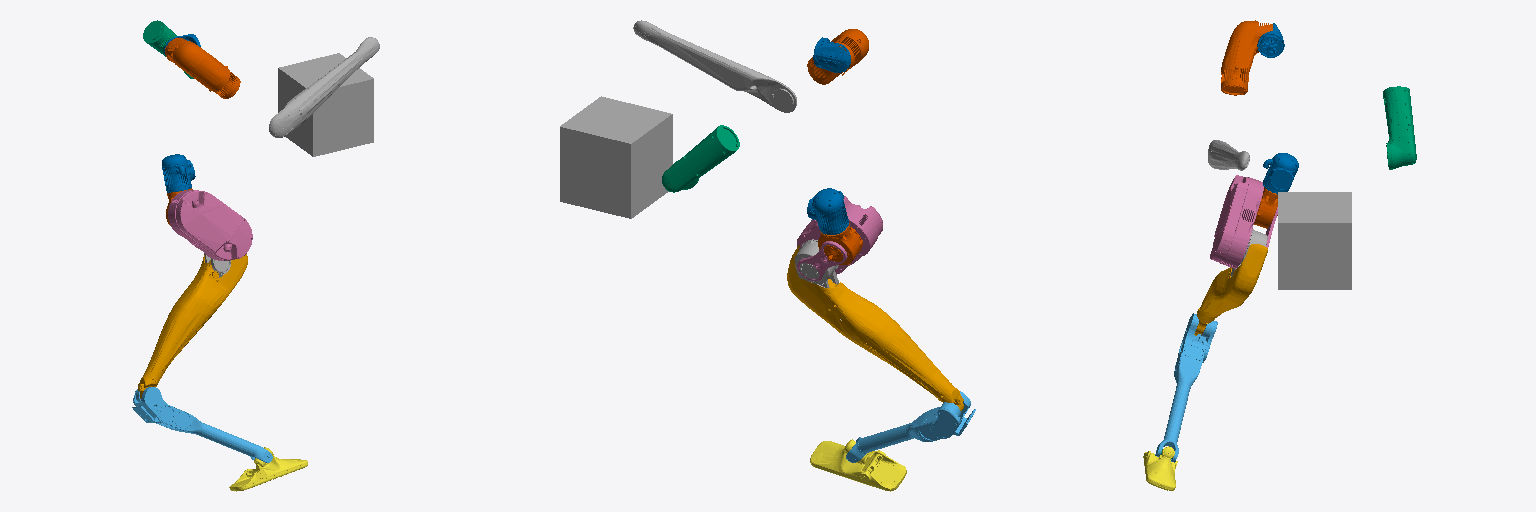
--- What the picture shows (computed from the rendered views, not written in the file) ---
The picture shows the robot from 3 angles, left to right: view 1: azimuth 30°, elevation 25°; view 2: azimuth 150°, elevation 25°; view 3: azimuth 270°, elevation 25°; orthographic projection.
Robot: digit — 32 links, 31 joints (3 revolute, 24 continuous, 3 prismatic, 1 fixed); root link world; default pose: every joint at zero.
Visible links, largest first — view 1: load, right_shin, right_hip_pitch, right_elbow, right_tarsus, right_shoulder_pitch, right_toe_roll, right_hip_roll, left_shoulder_yaw; view 2: load, right_shin, right_elbow, right_tarsus, right_toe_roll, left_shoulder_yaw, right_hip_pitch, right_hip_roll, right_shoulder_pitch, right_shoulder_roll, right_hip_yaw, right_knee; view 3: load, right_hip_pitch, right_tarsus, right_shin, right_shoulder_pitch, left_shoulder_yaw, right_toe_roll, right_hip_roll, right_elbow, right_shoulder_roll, right_hip_yaw.
Link boxes in pixels (left/top/right/bottom): load: left=278, top=53, right=373, bottom=156; right_shin: left=138, top=254, right=247, bottom=398; right_hip_pitch: left=168, top=190, right=252, bottom=260; right_elbow: left=269, top=37, right=379, bottom=137; right_tarsus: left=132, top=387, right=272, bottom=462; right_shoulder_pitch: left=165, top=38, right=240, bottom=98; right_toe_roll: left=229, top=447, right=307, bottom=491; right_hip_roll: left=162, top=154, right=195, bottom=192; left_shoulder_yaw: left=143, top=20, right=193, bottom=78; load: left=560, top=96, right=672, bottom=218; right_shin: left=787, top=245, right=963, bottom=410; right_elbow: left=633, top=20, right=796, bottom=112; right_tarsus: left=846, top=391, right=975, bottom=462; right_toe_roll: left=810, top=439, right=906, bottom=491; left_shoulder_yaw: left=662, top=125, right=739, bottom=192; right_hip_pitch: left=797, top=196, right=882, bottom=280; right_hip_roll: left=807, top=188, right=848, bottom=234; right_shoulder_pitch: left=807, top=29, right=868, bottom=84; right_shoulder_roll: left=813, top=37, right=850, bottom=72; right_hip_yaw: left=818, top=223, right=862, bottom=264; right_knee: left=794, top=239, right=841, bottom=320; load: left=1278, top=192, right=1351, bottom=289; right_hip_pitch: left=1210, top=175, right=1277, bottom=268; right_tarsus: left=1155, top=313, right=1217, bottom=462; right_shin: left=1194, top=244, right=1267, bottom=335; right_shoulder_pitch: left=1221, top=20, right=1272, bottom=95; left_shoulder_yaw: left=1383, top=86, right=1416, bottom=169; right_toe_roll: left=1143, top=446, right=1177, bottom=490; right_hip_roll: left=1263, top=153, right=1298, bottom=194; right_elbow: left=1208, top=140, right=1249, bottom=170; right_shoulder_roll: left=1257, top=23, right=1284, bottom=57; right_hip_yaw: left=1254, top=187, right=1277, bottom=228.
Bounding box of the posed robot: 0.9093 × 0.7419 × 1.32 m (x, y, z).
Meshes: 25 distinct files referenced, 12 mesh visuals loaded (12 binary STL); not drawn: 13 (reference not matched to a file when rendering).

The robot description file, URDF, robot "digit":
<?xml version="1.0" encoding="utf-8"?>
<robot name="digit">
  <link name="world">
    <inertial>
      <origin rpy="0 0 0" xyz="0 0 0"/>
      <mass value="0"/>
      <inertia ixx="0" ixy="0" ixz="0" iyy="0" iyz="0" izz="0"/>
    </inertial>
  </link>

  <link name="TransX">
    <inertial>
      <origin rpy="0 0 0" xyz="0 0 0"/>
      <mass value="0"/>
      <inertia ixx="0" ixy="0" ixz="0" iyy="0" iyz="0" izz="0"/>
    </inertial>
  </link>
  <link name="TransY">
    <inertial>
      <origin rpy="0 0 0" xyz="0 0 0"/>
      <mass value="0"/>
      <inertia ixx="0" ixy="0" ixz="0" iyy="0" iyz="0" izz="0"/>
    </inertial>
  </link>
  <link name="TransZ">
    <inertial>
      <origin rpy="0 0 0" xyz="0 0 0"/>
      <mass value="0"/>
      <inertia ixx="0" ixy="0" ixz="0" iyy="0" iyz="0" izz="0"/>
    </inertial>
  </link>
  <link name="RotX">
    <inertial>
      <origin rpy="0 0 0" xyz="0 0 0"/>
      <mass value="0"/>
      <inertia ixx="0" ixy="0" ixz="0" iyy="0" iyz="0" izz="0"/>
    </inertial>
  </link>
  <link name="RotY">
    <inertial>
      <origin rpy="0 0 0" xyz="0 0 0"/>
      <mass value="0"/>
      <inertia ixx="0" ixy="0" ixz="0" iyy="0" iyz="0" izz="0"/>
    </inertial>
  </link>





  <link name="torso">
    <inertial>
      <origin rpy="0 0 0" xyz="0.001637 0.0002 0.259547"/>
      <mass value="15.028392"/>
      <inertia ixx="0.376284" ixy="-8.8e-05" ixz="0.008378" iyy="0.342655" iyz="6.7e-05" izz="0.100648"/>
    </inertial>
    <visual>
      <origin rpy="0 0 0" xyz="0 0 0"/>
      <geometry>
        <mesh filename="torso.stl"/>
      </geometry>
    </visual>
    <collision>
      <origin rpy="0 0 0" xyz="0 0 0"/>
      <geometry>
        <mesh filename="torso.stl"/>
      </geometry>
    </collision>
  </link>


  <link name="load">
    <inertial>
      <origin rpy="0 0 0" xyz="0.2 0 -0.2"/>
      <mass value="10"/>
      <inertia ixx="0.376284" ixy="-8.8e-05" ixz="0.008378" iyy="0.342655" iyz="6.7e-05" izz="0.100648"/>
    </inertial>
    <visual>
      <origin rpy="0 0 0" xyz="0 0 0"/>
      <geometry>
        <box size="0.2 0.2 0.2" />
      </geometry>
    </visual>
    <collision>
      <origin rpy="0 0 0" xyz="0 0 0"/>
      <geometry>
        <box size="0.2 0.2 0.2" />
      </geometry>
    </collision>
  </link>


  <link name="left_hip_roll">
    <inertial>
      <origin rpy="0 0 0" xyz="-0.001967 0.000244 0.031435"/>
      <mass value="0.915088"/>
      <inertia ixx="0.001017" ixy="-3e-06" ixz="1.3e-05" iyy="0.001148" iyz="-4e-06" izz="0.000766"/>
    </inertial>
    <visual>
      <origin rpy="0 0 0" xyz="0 0 0"/>
      <geometry>
        <mesh filename="hip-yaw-housing.stl"/>
      </geometry>
    </visual>
    <collision>
      <origin rpy="0 0 0" xyz="0 0 0"/>
      <geometry>
        <mesh filename="hip-yaw-housing.stl"/>
      </geometry>
    </collision>
  </link>
  <link name="left_hip_yaw">
    <inertial>
      <origin rpy="0 0 0" xyz="1e-05 -0.001945 0.042033"/>
      <mass value="0.818753"/>
      <inertia ixx="0.001627" ixy="-1e-06" ixz="2e-06" iyy="0.001929" iyz="5.3e-05" izz="0.00077"/>
    </inertial>
    <visual>
      <origin rpy="0 0 0" xyz="0 0 0"/>
      <geometry>
        <mesh filename="hip-pitch-housing.stl"/>
      </geometry>
    </visual>
    <collision>
      <origin rpy="0 0 0" xyz="0 0 0"/>
      <geometry>
        <mesh filename="hip-pitch-housing.stl"/>
      </geometry>
    </collision>
  </link>
  <link name="left_hip_pitch">
    <inertial>
      <origin rpy="0 0 0" xyz="0.060537 0.000521 -0.038857"/>
      <mass value="6.244279"/>
      <inertia ixx="0.011533" ixy="-0.000171" ixz="0.000148" iyy="0.033345" iyz="0.000178" izz="0.033958"/>
    </inertial>
    <visual>
      <origin rpy="0 0 0" xyz="0 0 0"/>
      <geometry>
        <mesh filename="hip-pitch.stl"/>
      </geometry>
    </visual>
    <collision>
      <origin rpy="0 0 0" xyz="0 0 0"/>
      <geometry>
        <mesh filename="hip-pitch.stl"/>
      </geometry>
    </collision>
  </link>
  <link name="left_knee">
    <inertial>
      <origin rpy="0 0 0" xyz="0.045641 0.042154 0.001657"/>
      <mass value="1.227077"/>
      <inertia ixx="0.002643" ixy="-0.001832" ixz="6.6e-05" iyy="0.005098" iyz="4.5e-05" izz="0.007019"/>
    </inertial>
    <visual>
      <origin rpy="0 0 0" xyz="0 0 0"/>
      <geometry>
        <mesh filename="knee.stl"/>
      </geometry>
    </visual>
    <collision>
      <origin rpy="0 0 0" xyz="0 0 0"/>
      <geometry>
        <mesh filename="knee.stl"/>
      </geometry>
    </collision>
  </link>
  <link name="left_shin">
    <inertial>
      <origin rpy="0 0 0" xyz="0.174265 0.010265 0.00107"/>
      <mass value="0.895793"/>
      <inertia ixx="0.001128" ixy="0.001098" ixz="0.000196" iyy="0.022492" iyz="-3e-06" izz="0.022793"/>
    </inertial>
    <visual>
      <origin rpy="0 0 0" xyz="0 0 0"/>
      <geometry>
        <mesh filename="shin.stl"/>
      </geometry>
    </visual>
    <collision>
      <origin rpy="0 0 0" xyz="0 0 0"/>
      <geometry>
        <mesh filename="shin.stl"/>
      </geometry>
    </collision>
  </link>
  <link name="left_tarsus">
    <inertial>
      <origin rpy="0 0 0" xyz="0.000932 -0.029183 0.000678"/>
      <mass value="1.322865"/>
      <inertia ixx="0.000932" ixy="0.00061" ixz="0.000102" iyy="0.016409" iyz="9e-06" izz="0.016501"/>
    </inertial>
    <visual>
      <origin rpy="0 0 0" xyz="0 0 0"/>
      <geometry>
        <mesh filename="tarsus.stl"/>
      </geometry>
    </visual>
    <collision>
      <origin rpy="0 0 0" xyz="0 0 0"/>
      <geometry>
        <mesh filename="tarsus.stl"/>
      </geometry>
    </collision>
  </link>
  <link name="left_toe_pitch">
    <inertial>
      <origin rpy="0 0 0" xyz="-0.000141 2e-06 3e-06"/>
      <mass value="0.043881"/>
      <inertia ixx="5e-06" ixy="0" ixz="0" iyy="8e-06" iyz="0" izz="5e-06"/>
    </inertial>
    <visual>
      <origin rpy="0 0 0" xyz="0 0 0"/>
      <geometry>
        <mesh filename="toe-pitch.stl"/>
      </geometry>
    </visual>
    <collision>
      <origin rpy="0 0 0" xyz="0 0 0"/>
      <geometry>
        <mesh filename="toe-pitch.stl"/>
      </geometry>
    </collision>
  </link>
  <link name="left_toe_roll">
    <inertial>
      <origin rpy="0 0 0" xyz="9e-06 -0.028084 -0.023204"/>
      <mass value="0.531283"/>
      <inertia ixx="0.00187" ixy="0" ixz="0" iyy="0.001616" iyz="0.000566" izz="0.000843"/>
    </inertial>
    <visual>
      <origin rpy="0 0 0" xyz="0 0 0"/>
      <geometry>
        <mesh filename="toe-roll.stl"/>
      </geometry>
    </visual>
    <collision>
      <origin rpy="0 0 0" xyz="0 0 0"/>
      <geometry>
        <mesh filename="toe-roll.stl"/>
      </geometry>
    </collision>
  </link>
  <link name="left_shoulder_roll">
    <inertial>
      <origin rpy="0 0 0" xyz="9e-06 -0.003158 0.023405"/>
      <mass value="0.535396"/>
      <inertia ixx="0.000704" ixy="1.4e-05" ixz="1.2e-05" iyy="0.00075" iyz="3.5e-05" izz="0.000298"/>
    </inertial>
    <visual>
      <origin rpy="0 0 0" xyz="0 0 0"/>
      <geometry>
        <mesh filename="arm-L1.stl"/>
      </geometry>
    </visual>
    <collision>
      <origin rpy="0 0 0" xyz="0 0 0"/>
      <geometry>
        <mesh filename="arm-L1.stl"/>
      </geometry>
    </collision>
  </link>
  <link name="left_shoulder_pitch">
    <inertial>
      <origin rpy="0 0 0" xyz="-4.2e-05 -0.061882 -0.073788"/>
      <mass value="1.440357"/>
      <inertia ixx="0.006761" ixy="-6e-06" ixz="-3e-06" iyy="0.002087" iyz="-0.002046" izz="0.005778"/>
    </inertial>
    <visual>
      <origin rpy="0 0 0" xyz="0 0 0"/>
      <geometry>
        <mesh filename="arm-L2.stl"/>
      </geometry>
    </visual>
    <collision>
      <origin rpy="0 0 0" xyz="0 0 0"/>
      <geometry>
        <mesh filename="arm-L2.stl"/>
      </geometry>
    </collision>
  </link>
  <link name="left_shoulder_yaw">
    <inertial>
      <origin rpy="0 0 0" xyz="-3e-05 -0.001937 0.11407"/>
      <mass value="1.065387"/>
      <inertia ixx="0.006967" ixy="1e-06" ixz="-1e-06" iyy="0.007003" iyz="1.5e-05" izz="0.000673"/>
    </inertial>
    <visual>
      <origin rpy="0 0 0" xyz="0 0 0"/>
      <geometry>
        <mesh filename="arm-L3.stl"/>
      </geometry>
    </visual>
    <collision>
      <origin rpy="0 0 0" xyz="0 0 0"/>
      <geometry>
        <mesh filename="arm-L3.stl"/>
      </geometry>
    </collision>
  </link>
  <link name="left_elbow">
    <inertial>
      <origin rpy="0 0 0" xyz="0.107996 -0.000521 -0.017765"/>
      <mass value="0.550582"/>
      <inertia ixx="0.000476" ixy="-2.9e-05" ixz="0.001403" iyy="0.009564" iyz="9e-06" izz="0.009437"/>
    </inertial>
    <visual>
      <origin rpy="0 0 0" xyz="0 0 0"/>
      <geometry>
        <mesh filename="package://urdf/arm-L4.obj"/>
      </geometry>
    </visual>
    <collision>
      <origin rpy="0 0 0" xyz="0 0 0"/>
      <geometry>
        <mesh filename="package://urdf/arm-L4.obj"/>
      </geometry>
    </collision>
  </link>








  <link name="right_hip_roll">
    <inertial>
      <origin rpy="0 0 0" xyz="-0.001967 -0.000244 0.031435"/>
      <mass value="0.915088"/>
      <inertia ixx="0.001017" ixy="3e-06" ixz="1.3e-05" iyy="0.001148" iyz="4e-06" izz="0.000766"/>
    </inertial>
    <visual>
      <origin rpy="0 0 0" xyz="0 0 0"/>
      <geometry>
        <mesh filename="right_part/right_hip-yaw-housing.stl" scale="1 1 1"/>
      </geometry>
    </visual>
    <collision>
      <origin rpy="0 0 0" xyz="0 0 0"/>
      <geometry>
        <mesh filename="right_part/right_hip-yaw-housing.stl" scale="1 1 1"/>
      </geometry>
    </collision>
  </link>
  <link name="right_hip_yaw">
    <inertial>
      <origin rpy="0 0 0" xyz="1e-05 0.001945 0.042033"/>
      <mass value="0.818753"/>
      <inertia ixx="0.001627" ixy="1e-06" ixz="2e-06" iyy="0.001929" iyz="-5.3e-05" izz="0.00077"/>
    </inertial>
    <visual>
      <origin rpy="0 0 0" xyz="0 0 0"/>
      <geometry>
        <mesh filename="right_part/right_hip-pitch-housing.stl" scale="1 1 1"/>
      </geometry>
    </visual>
    <collision>
      <origin rpy="0 0 0" xyz="0 0 0"/>
      <geometry>
        <mesh filename="right_part/right_hip-pitch-housing.stl" scale="1 1 1"/>
      </geometry>
    </collision>
  </link>
  <link name="right_hip_pitch">
    <inertial>
      <origin rpy="0 0 0" xyz="0.060537 -0.000521 -0.038857"/>
      <mass value="6.244279"/>
      <inertia ixx="0.011533" ixy="0.000171" ixz="0.000148" iyy="0.033345" iyz="-0.000178" izz="0.033958"/>
    </inertial>
    <visual>
      <origin rpy="0 0 0" xyz="0 0 0"/>
      <geometry>
        <mesh filename="right_part/right_hip-pitch.stl" scale="1 1 1"/>
      </geometry>
    </visual>
    <collision>
      <origin rpy="0 0 0" xyz="0 0 0"/>
      <geometry>
        <mesh filename="right_part/right_hip-pitch.stl" scale="1 1 1"/>
      </geometry>
    </collision>
  </link>
  <link name="right_knee">
    <inertial>
      <origin rpy="0 0 0" xyz="0.045641 -0.042154 0.001657"/>
      <mass value="1.227077"/>
      <inertia ixx="0.002643" ixy="0.001832" ixz="6.6e-05" iyy="0.005098" iyz="-4.5e-05" izz="0.007019"/>
    </inertial>
    <visual>
      <origin rpy="0 0 0" xyz="0 0 0"/>
      <geometry>
        <mesh filename="right_part/right_knee.stl" scale="1 1 1"/>
      </geometry>
    </visual>
    <collision>
      <origin rpy="0 0 0" xyz="0 0 0"/>
      <geometry>
        <mesh filename="right_part/right_knee.stl" scale="1 1 1"/>
      </geometry>
    </collision>
  </link>
  <link name="right_shin">
    <inertial>
      <origin rpy="0 0 0" xyz="0.174265 -0.010265 0.00107"/>
      <mass value="0.895793"/>
      <inertia ixx="0.001128" ixy="-0.001098" ixz="0.000196" iyy="0.022492" iyz="3e-06" izz="0.022793"/>
    </inertial>
    <visual>
      <origin rpy="0 0 0" xyz="0 0 0"/>
      <geometry>
        <mesh filename="right_part/right_shin.stl" scale="1 1 1"/>
      </geometry>
    </visual>
    <collision>
      <origin rpy="0 0 0" xyz="0 0 0"/>
      <geometry>
        <mesh filename="right_part/right_shin.stl" scale="1 1 1"/>
      </geometry>
    </collision>
  </link>
  <link name="right_tarsus">
    <inertial>
      <origin rpy="0 0 0" xyz="0.000932 0.029183 0.000678"/>
      <mass value="1.322865"/>
      <inertia ixx="0.000932" ixy="-0.00061" ixz="0.000102" iyy="0.016409" iyz="-9e-06" izz="0.016501"/>
    </inertial>
    <visual>
      <origin rpy="0 0 0" xyz="0 0 0"/>
      <geometry>
        <mesh filename="right_part/right_tarsus.stl" scale="1 1 1"/>
      </geometry>
    </visual>
    <collision>
      <origin rpy="0 0 0" xyz="0 0 0"/>
      <geometry>
        <mesh filename="right_part/right_tarsus.stl" scale="1 1 1"/>
      </geometry>
    </collision>
  </link>
  <link name="right_toe_pitch">
    <inertial>
      <origin rpy="0 0 0" xyz="-0.000141 -2e-06 3e-06"/>
      <mass value="0.043881"/>
      <inertia ixx="5e-06" ixy="0" ixz="0" iyy="8e-06" iyz="0" izz="5e-06"/>
    </inertial>
    <visual>
      <origin rpy="0 0 0" xyz="0 0 0"/>
      <geometry>
        <mesh filename="right_part/right_toe-pitch.stl" scale="1 1 1"/>
      </geometry>
    </visual>
    <collision>
      <origin rpy="0 0 0" xyz="0 0 0"/>
      <geometry>
        <mesh filename="right_part/right_toe-pitch.stl" scale="1 1 1"/>
      </geometry>
    </collision>
  </link>
  <link name="right_toe_roll">
    <inertial>
      <origin rpy="0 0 0" xyz="9e-06 0.028084 -0.023204"/>
      <mass value="0.531283"/>
      <inertia ixx="0.00187" ixy="0" ixz="0" iyy="0.001616" iyz="-0.000566" izz="0.000843"/>
    </inertial>
    <visual>
      <origin rpy="0 0 0" xyz="0 0 0"/>
      <geometry>
        <mesh filename="right_part/right_toe-roll.stl" scale="1 1 1"/>
      </geometry>
    </visual>
    <collision>
      <origin rpy="0 0 0" xyz="0 0 0"/>
      <geometry>
        <mesh filename="right_part/right_toe-roll.stl" scale="1 1 1"/>
      </geometry>
    </collision>
  </link>











  <link name="right_shoulder_roll">
    <inertial>
      <origin rpy="0 0 0" xyz="9e-06 0.003158 0.023405"/>
      <mass value="0.535396"/>
      <inertia ixx="0.000704" ixy="-1.4e-05" ixz="1.2e-05" iyy="0.00075" iyz="-3.5e-05" izz="0.000298"/>
    </inertial>
    <visual>
      <origin rpy="0 0 0" xyz="0 0 0"/>
      <geometry>
        <mesh filename="right_part/right_arm-L1.stl" scale="1 1 1"/>
      </geometry>
    </visual>
    <collision>
      <origin rpy="0 0 0" xyz="0 0 0"/>
      <geometry>
        <mesh filename="right_part/right_arm-L1.stl" scale="1 1 1"/>
      </geometry>
    </collision>
  </link>
  <link name="right_shoulder_pitch">
    <inertial>
      <origin rpy="0 0 0" xyz="-4.2e-05 0.061882 -0.073788"/>
      <mass value="1.440357"/>
      <inertia ixx="0.006761" ixy="6e-06" ixz="-3e-06" iyy="0.002087" iyz="0.002046" izz="0.005778"/>
    </inertial>
    <visual>
      <origin rpy="0 0 0" xyz="0 0 0"/>
      <geometry>
        <mesh filename="right_part/right_arm-L2.stl" scale="1 1 1"/>
      </geometry>
    </visual>
    <collision>
      <origin rpy="0 0 0" xyz="0 0 0"/>
      <geometry>
        <mesh filename="right_part/right_arm-L2.stl" scale="1 1 1"/>
      </geometry>
    </collision>
  </link>
  <link name="right_shoulder_yaw">
    <inertial>
      <origin rpy="0 0 0" xyz="-3e-05 0.001937 0.11407"/>
      <mass value="1.065387"/>
      <inertia ixx="0.006967" ixy="-1e-06" ixz="-1e-06" iyy="0.007003" iyz="-1.5e-05" izz="0.000673"/>
    </inertial>
    <visual>
      <origin rpy="0 0 0" xyz="0 0 0"/>
      <geometry>
        <mesh filename="right_part/right_arm-L3.stl" scale="1 1 1"/>
      </geometry>
    </visual>
    <collision>
      <origin rpy="0 0 0" xyz="0 0 0"/>
      <geometry>
        <mesh filename="right_part/right_arm-L3.stl" scale="1 1 1"/>
      </geometry>
    </collision>
  </link>
  <link name="right_elbow">
    <inertial>
      <origin rpy="0 0 0" xyz="0.107996 0.000521 -0.017765"/>
      <mass value="0.550582"/>
      <inertia ixx="0.000476" ixy="2.9e-05" ixz="0.001403" iyy="0.009564" iyz="-9e-06" izz="0.009437"/>
    </inertial>
    <visual>
      <origin rpy="0 0 0" xyz="0 0 0"/>
      <geometry>
        <mesh filename="right_part/right_arm-L4.stl" scale="1 1 1"/>
      </geometry>
    </visual>
    <collision>
      <origin rpy="0 0 0" xyz="0 0 0"/>
      <geometry>
        <mesh filename="right_part/right_arm-L4.stl" scale="1 1 1"/>
      </geometry>
    </collision>
  </link>










  <joint name="tranX" type="prismatic">
    <origin rpy="0 0 0" xyz="0 0 0"/>
    <axis xyz="1 0 0"/>
    <parent link="world"/>
    <child link="TransX"/>
    <limit effort="1.4" lower="-1.0472" upper="1.0472" velocity="12.15"/>
  </joint>
  <joint name="tranY" type="prismatic">
    <origin rpy="0 0 0" xyz="0 0 0"/>
    <axis xyz="0 1 0"/>
    <parent link="TransX"/>
    <child link="TransY"/>
    <limit effort="1.4" lower="-1.0472" upper="1.0472" velocity="12.15"/>
  </joint>
  <joint name="tranZ" type="prismatic">
    <origin rpy="0 0 0" xyz="0 0 0"/>
    <axis xyz="0 0 1"/>
    <parent link="TransY"/>
    <child link="TransZ"/>
    <limit effort="1.4" lower="-1.0472" upper="1.0472" velocity="12.15"/>
  </joint>
  <joint name="RotX" type="revolute">
    <origin rpy="0 0 0" xyz="0 0 0"/>
    <axis xyz="1 0 0"/>
    <parent link="TransZ"/>
    <child link="RotX"/>
    <limit effort="1.4" lower="-1.0472" upper="1.0472" velocity="12.15"/>
  </joint>
  <joint name="RotY" type="revolute">
    <origin rpy="0 0 0" xyz="0 0 0"/>
    <axis xyz="0 1 0"/>
    <parent link="RotX"/>
    <child link="RotY"/>
    <limit effort="1.4" lower="-1.0472" upper="1.0472" velocity="12.15"/>
  </joint>
  <joint name="RotZ" type="revolute">
    <origin rpy="0 0 0" xyz="0 0 0"/>
    <axis xyz="0 0 1"/>
    <parent link="RotY"/>
    <child link="torso"/>
    <limit effort="1.4" lower="-1.0472" upper="1.0472" velocity="12.15"/>
  </joint>






  <joint name="hip_abduction_left" type="continuous">
    <origin rpy="1.57079632679 -1.1955506 -1.57079632679" xyz="-0.001 0.091 0"/>
    <axis xyz="0 0 1"/>
    <parent link="torso"/>
    <child link="left_hip_roll"/>
    <limit effort="1.4" lower="-1.0472" upper="1.0472" velocity="12.15"/>
  </joint>
  <joint name="hip_rotation_left" type="continuous">
    <origin rpy="0 -1.57079632679 0" xyz="-0.0505 0 0.044"/>
    <axis xyz="0 0 1"/>
    <parent link="left_hip_roll"/>
    <child link="left_hip_yaw"/>
    <limit effort="1.4" lower="-0.698132" upper="0.698132" velocity="12.15"/>
  </joint>
  <joint name="hip_flexion_left" type="continuous">
    <origin rpy="-1.57079632679 -0.785398163397 3.14159265359" xyz="0 0.004 0.068"/>
    <axis xyz="0 0 -1"/>
    <parent link="left_hip_yaw"/>
    <child link="left_hip_pitch"/>
    <limit effort="12.5" lower="-1.0472" upper="1.57079632679" velocity="8.5"/>
  </joint>
  <joint name="knee_joint_left" type="continuous">
    <origin rpy="0 0 -1.57079632679" xyz="0.12 0 0.0045"/>
    <axis xyz="0 0 1"/>
    <parent link="left_hip_pitch"/>
    <child link="left_knee"/>
    <limit effort="12.5" lower="-1.2392" upper="0.8727" velocity="8.5085"/>
  </joint>
  <joint name="knee_to_shin_left" type="continuous">
    <origin rpy="0 0 0" xyz="0.060677 0.047406 0"/>
    <axis xyz="0 0 1"/>
    <parent link="left_knee"/>
    <child link="left_shin"/>
    <limit effort="0" lower="-0.35" upper="0.35" velocity="10"/>
  </joint>
  <joint name="shin_to_tarsus_left" type="continuous">
    <origin rpy="0 0 1.7976891" xyz="0.434759 0.02 0"/>
    <axis xyz="0 0 1"/>
    <parent link="left_shin"/>
    <child link="left_tarsus"/>
    <limit effort="0" lower="-0.8779" upper="1.2497" velocity="20"/>
  </joint>
  <joint name="toe_pitch_joint_left" type="continuous">
    <origin rpy="0 0 1.1956" xyz="0.408 -0.04 0"/>
    <axis xyz="0 0 1"/>
    <parent link="left_tarsus"/>
    <child link="left_toe_pitch"/>
    <limit effort="0.9" lower="-0.785398163397" upper="0.785398163397" velocity="11.5"/>
  </joint>
  <joint name="toe_roll_joint_left" type="continuous">
    <origin rpy="0 1.57079632679 0" xyz="0 0 0"/>
    <axis xyz="0 0 1"/>
    <parent link="left_toe_pitch"/>
    <child link="left_toe_roll"/>
    <limit effort="0.9" lower="-0.6109" upper="0.6109" velocity="11.5"/>
  </joint>
  <joint name="shoulder_roll_joint_left" type="continuous">
    <origin rpy="-1.57079632679 -1.3962633 1.57079632679" xyz="-0.001 0.12 0.4"/>
    <axis xyz="0 0 1"/>
    <parent link="torso"/>
    <child link="left_shoulder_roll"/>
    <limit effort="1.4" lower="-1.309" upper="1.309" velocity="12.5"/>
  </joint>
  <joint name="shoulder_pitch_joint_left" type="continuous">
    <origin rpy="1.57079632679 0.785398163397 -0.2792527" xyz="-0.00317 -0.011055 0.0555"/>
    <axis xyz="0 0 -1"/>
    <parent link="left_shoulder_roll"/>
    <child link="left_shoulder_pitch"/>
    <limit effort="1.4" lower="-2.5307" upper="2.5307" velocity="12.5"/>
  </joint>
  <joint name="shoulder_yaw_joint_left" type="continuous">
    <origin rpy="1.57079632679 0 0" xyz="0 -0.165 -0.1"/>
    <axis xyz="0 0 1"/>
    <parent link="left_shoulder_pitch"/>
    <child link="left_shoulder_yaw"/>
    <limit effort="1.4" lower="-1.7453" upper="1.7453" velocity="10"/>
  </joint>
  <joint name="elbow_joint_left" type="continuous">
    <origin rpy="1.57079632679 -0.3926991 0" xyz="0 -0.0385 0.185"/>
    <axis xyz="0 0 1"/>
    <parent link="left_shoulder_yaw"/>
    <child link="left_elbow"/>
    <limit effort="1.4" lower="-1.3526" upper="1.3526" velocity="12.5"/>
  </joint>


  <joint name="hip_abduction_right" type="continuous">
    <origin rpy="-1.57079632679 -1.1955506 1.57079632679" xyz="-0.001 -0.091 0"/>
    <axis xyz="0 0 1"/>
    <parent link="torso"/>
    <child link="right_hip_roll"/>
    <limit effort="1.4" lower="-1.0472" upper="1.0472" velocity="12.15"/>
  </joint>
  <joint name="hip_rotation_right" type="continuous">
    <origin rpy="0 -1.57079632679 0" xyz="-0.0505 0 0.044"/>
    <axis xyz="0 0 1"/>
    <parent link="right_hip_roll"/>
    <child link="right_hip_yaw"/>
    <limit effort="1.4" lower="-0.698132" upper="0.698132" velocity="12.15"/>
  </joint>
  <joint name="hip_flexion_right" type="continuous">
    <origin rpy="1.57079632679 -0.785398163397 -3.14159265359" xyz="0 -0.004 0.068"/>
    <axis xyz="0 0 -1"/>
    <parent link="right_hip_yaw"/>
    <child link="right_hip_pitch"/>
    <limit effort="12.5" lower="-1.57079632679" upper="1.0472" velocity="8.5"/>
  </joint>
  <joint name="knee_joint_right" type="continuous">
    <origin rpy="0 0 1.57079632679" xyz="0.12 0 0.0045"/>
    <axis xyz="0 0 1"/>
    <parent link="right_hip_pitch"/>
    <child link="right_knee"/>
    <limit effort="12.5" lower="-0.8727" upper="1.2392" velocity="8.5085"/>
  </joint>
  <joint name="knee_to_shin_right" type="continuous">
    <origin rpy="0 0 0" xyz="0.060677 -0.047406 0"/>
    <axis xyz="0 0 1"/>
    <parent link="right_knee"/>
    <child link="right_shin"/>
    <limit effort="0" lower="-0.35" upper="0.35" velocity="10"/>
  </joint>
  <joint name="shin_to_tarsus_right" type="continuous">
    <origin rpy="0 0 -1.7976891" xyz="0.434759 -0.02 0"/>
    <axis xyz="0 0 1"/>
    <parent link="right_shin"/>
    <child link="right_tarsus"/>
    <limit effort="0" lower="-1.2497" upper="0.8779" velocity="20"/>
  </joint>
  <joint name="toe_pitch_joint_right" type="continuous">
    <origin rpy="0 0 -1.1956" xyz="0.408 0.04 0"/>
    <axis xyz="0 0 1"/>
    <parent link="right_tarsus"/>
    <child link="right_toe_pitch"/>
    <limit effort="0.9" lower="-0.785398163397" upper="0.785398163397" velocity="11.5"/>
  </joint>
  <joint name="toe_roll_joint_right" type="continuous">
    <origin rpy="0 1.57079632679 0" xyz="0 0 0"/>
    <axis xyz="0 0 1"/>
    <parent link="right_toe_pitch"/>
    <child link="right_toe_roll"/>
    <limit effort="0.9" lower="-0.6109" upper="0.6109" velocity="11.5"/>
  </joint>


  <joint name="shoulder_roll_joint_right" type="continuous">
    <origin rpy="1.57079632679 -1.3962633 -1.57079632679" xyz="-0.001 -0.12 0.4"/>
    <axis xyz="0 0 1"/>
    <parent link="torso"/>
    <child link="right_shoulder_roll"/>
    <limit effort="1.4" lower="-1.309" upper="1.309" velocity="12.5"/>
  </joint>
  <joint name="shoulder_pitch_joint_right" type="continuous">
    <origin rpy="-1.57079632679 0.785398163397 0.2792527" xyz="-0.00317 0.011055 0.0555"/>
    <axis xyz="0 0 -1"/>
    <parent link="right_shoulder_roll"/>
    <child link="right_shoulder_pitch"/>
    <limit effort="1.4" lower="-2.5307" upper="2.5307" velocity="12.5"/>
  </joint>
  <joint name="shoulder_yaw_joint_right" type="continuous">
    <origin rpy="-1.57079632679 0 0" xyz="0 0.165 -0.1"/>
    <axis xyz="0 0 1"/>
    <parent link="right_shoulder_pitch"/>
    <child link="right_shoulder_yaw"/>
    <limit effort="1.4" lower="-1.7453" upper="1.7453" velocity="10"/>
  </joint>
  <joint name="elbow_joint_right" type="continuous">
    <origin rpy="-1.57079632679 -0.3926991 0" xyz="0 0.0385 0.185"/>
    <axis xyz="0 0 1"/>
    <parent link="right_shoulder_yaw"/>
    <child link="right_elbow"/>
    <limit effort="1.4" lower="-1.3526" upper="1.3526" velocity="12.5"/>
  </joint>


  <joint name="torso2load" type="fixed">
    <origin rpy="0 0 0" xyz="0.5 0 0.05"/>
    <axis xyz="0 0 1"/>
    <parent link="torso"/>
    <child link="load"/>
    <limit effort="1.4" lower="-1.3526" upper="1.3526" velocity="12.5"/>
  </joint>




</robot>
